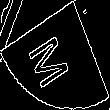M_NE: (30, 23, 80, 87)
